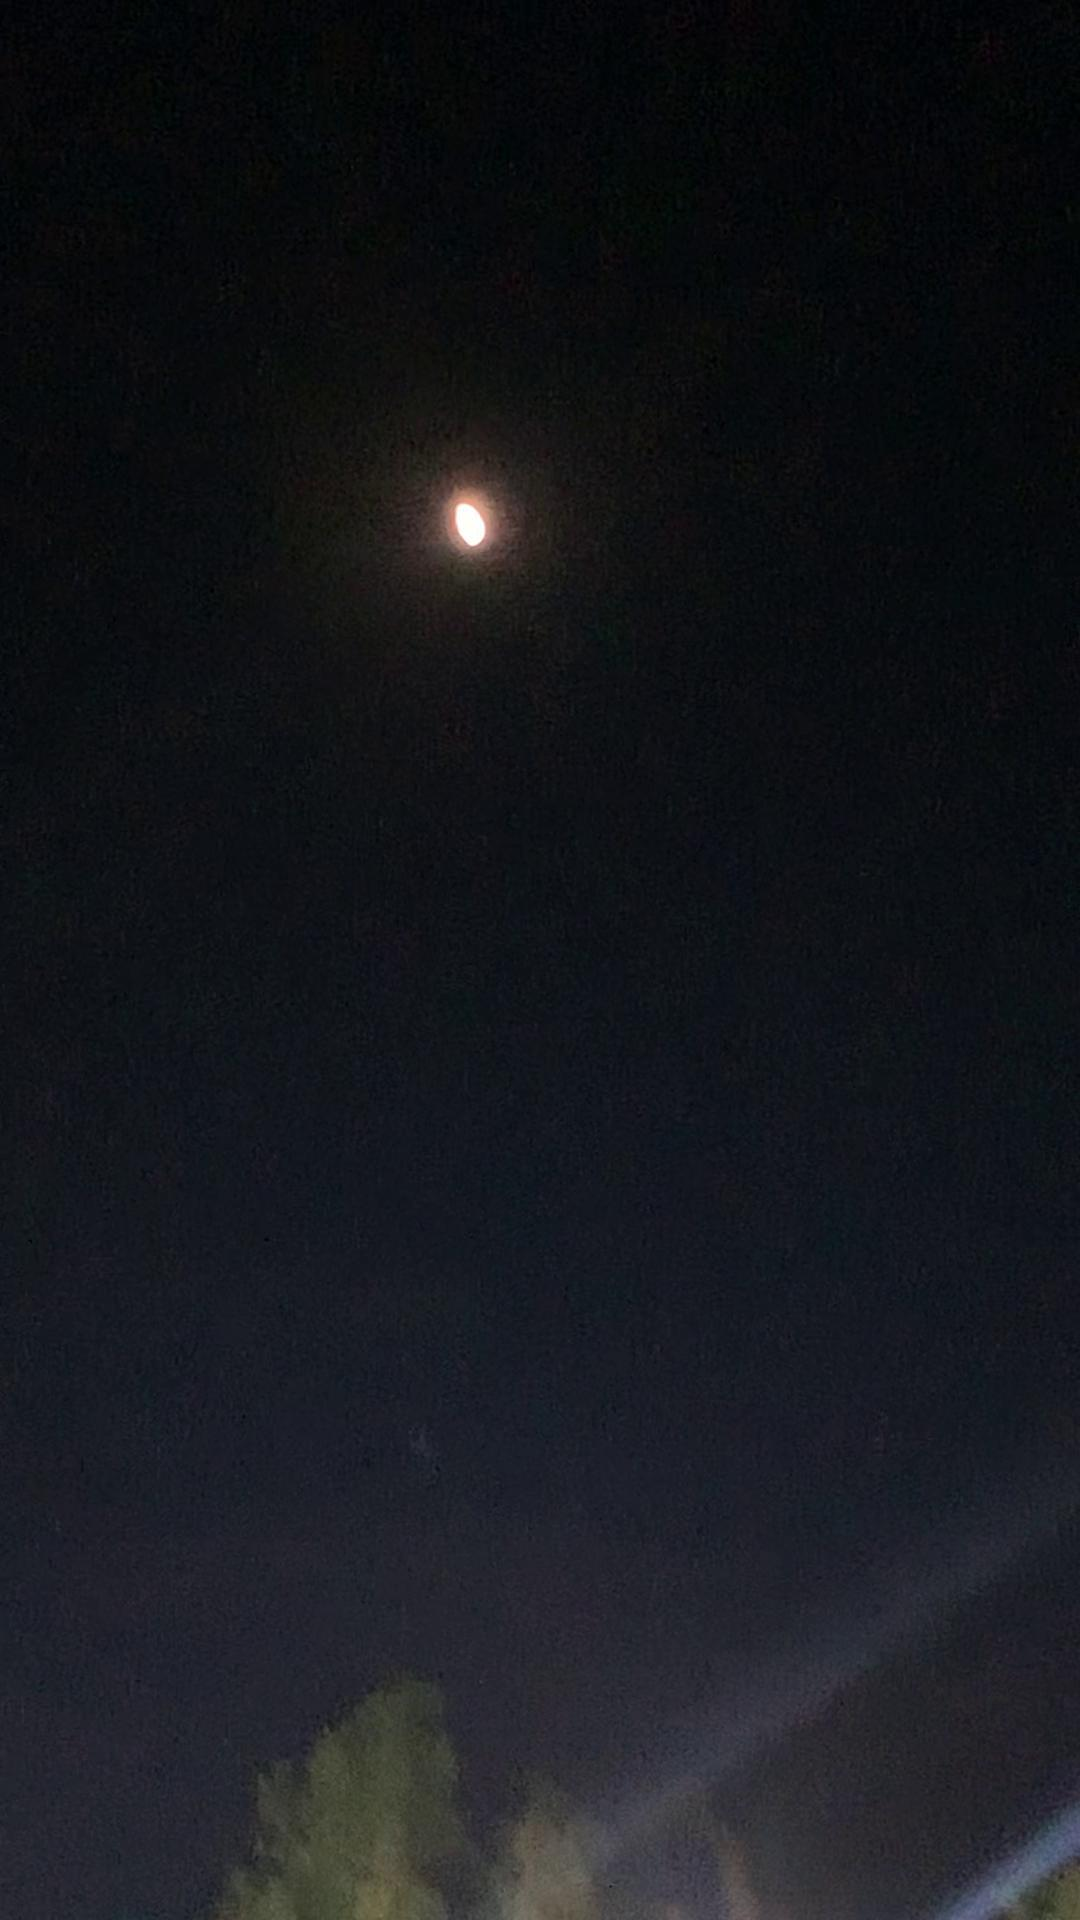moon: (434, 489, 509, 568)
